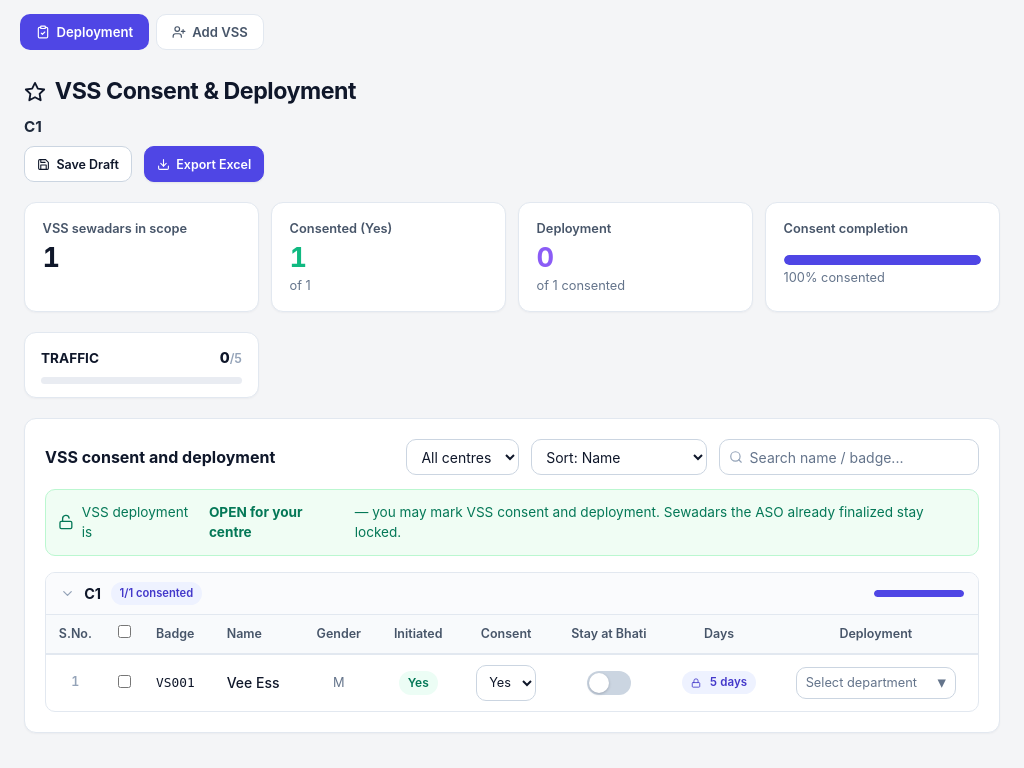
VssPage deploy table › consent No→Yes restores the auto-set days
The width and height of the screenshot is (1024, 768).
Select "No" in the dropdown in the row of "VS001" at (506, 683), box [476, 665, 536, 701]
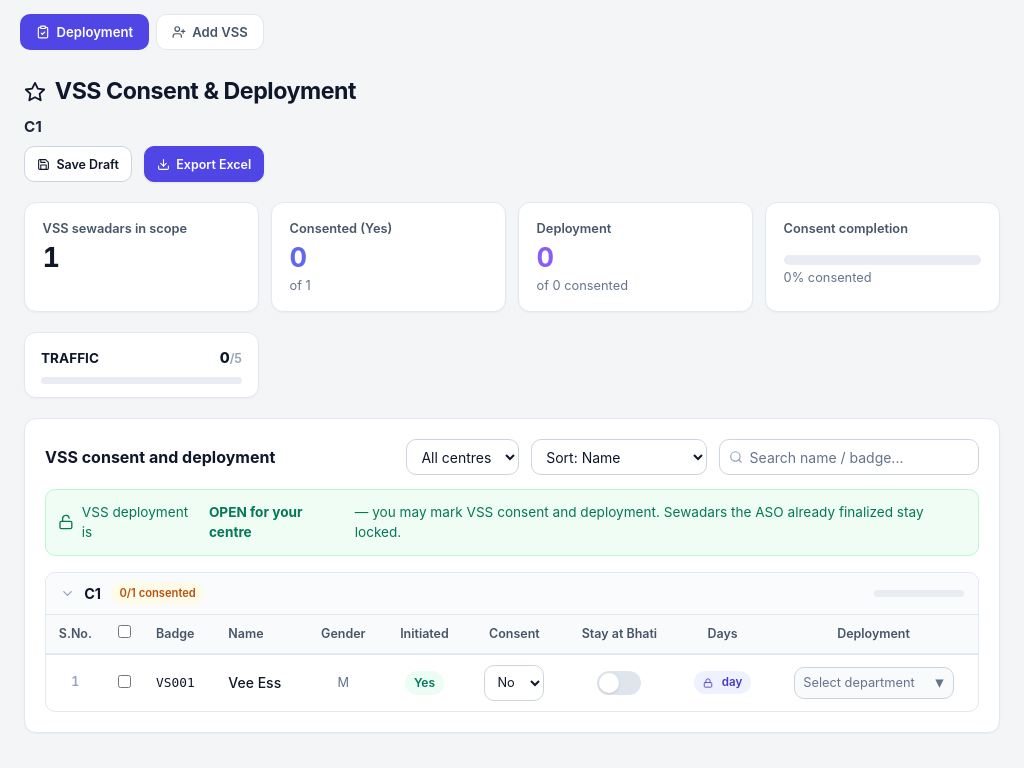
Select "Yes" in the dropdown in the row of "VS001" at (514, 683), box [484, 665, 544, 701]
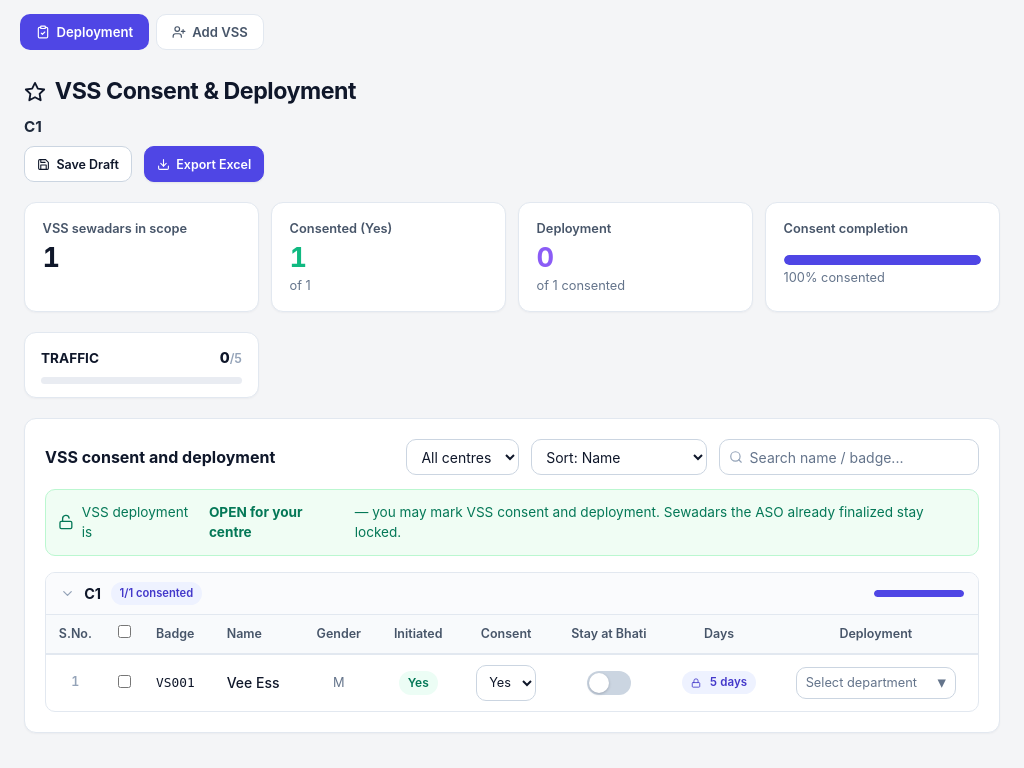
Now the text "Vee Ess" shows "5 days", box [46, 654, 978, 711]
